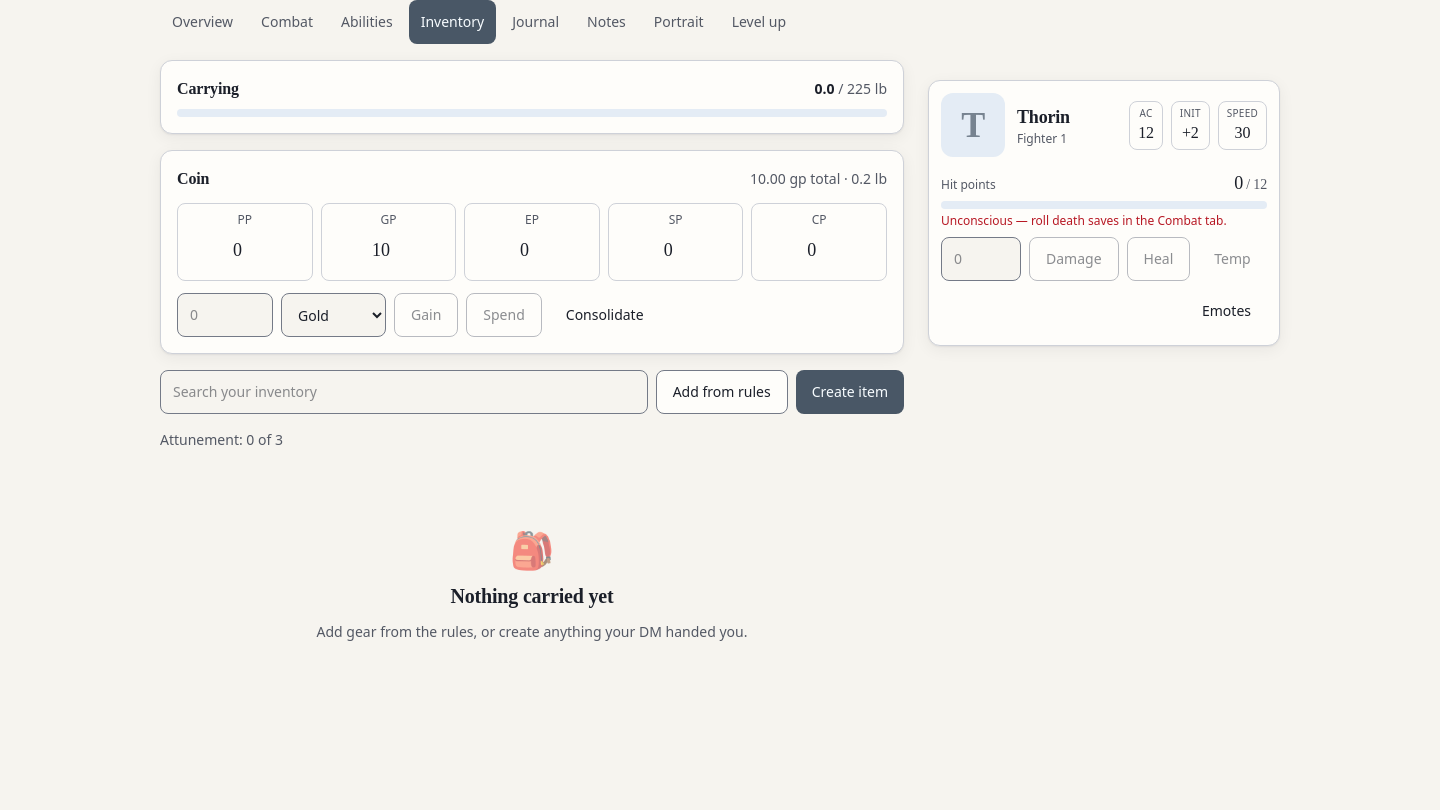
Test: adding items › finds real SRD equipment and snapshots its stats
The width and height of the screenshot is (1440, 810).
Click the button "Add from rules" at coordinates (722, 392), box 656,370 -> 788,414
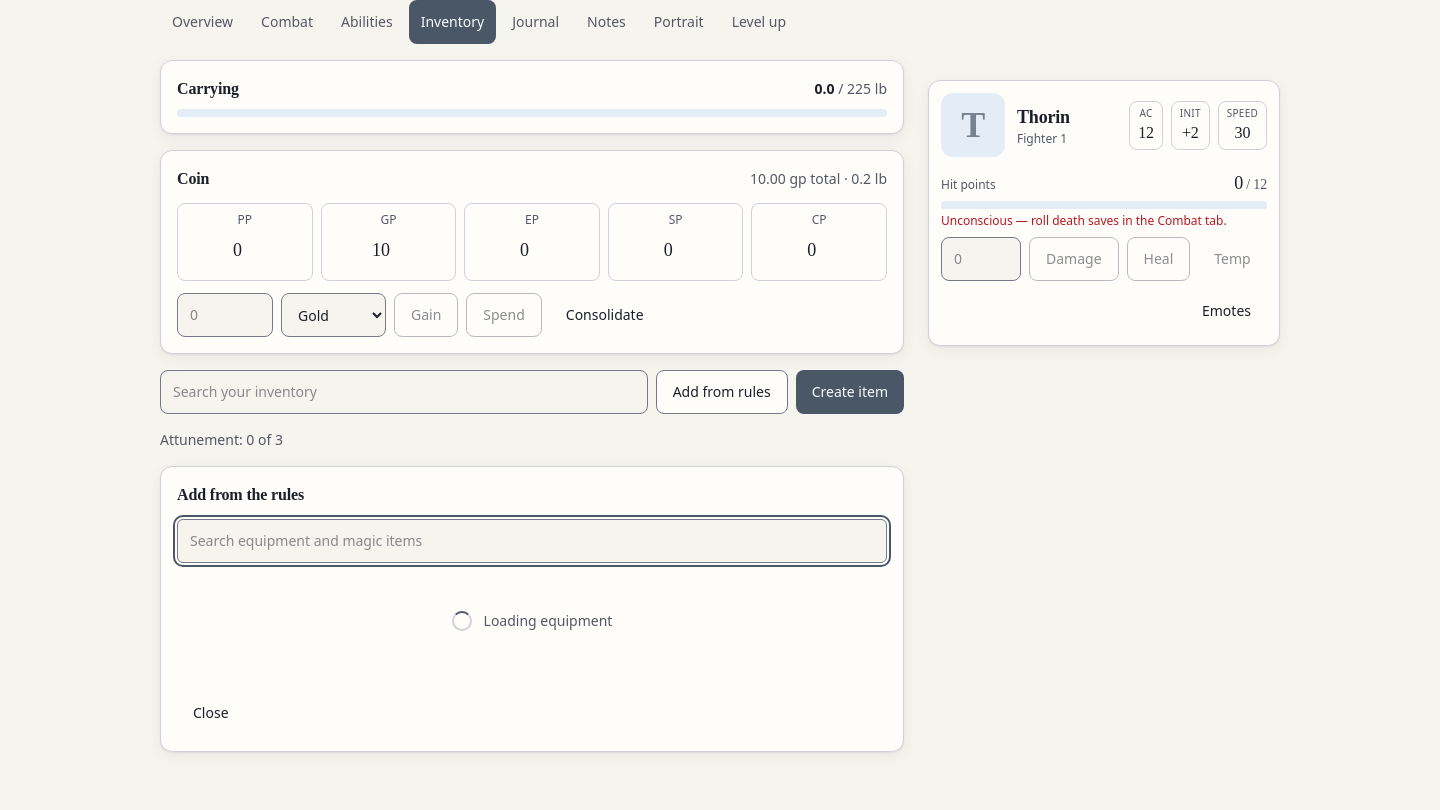
Type "breastplate" into the field labelled "Search equipment and magic items" at coordinates (532, 541), box 177,519 -> 887,563
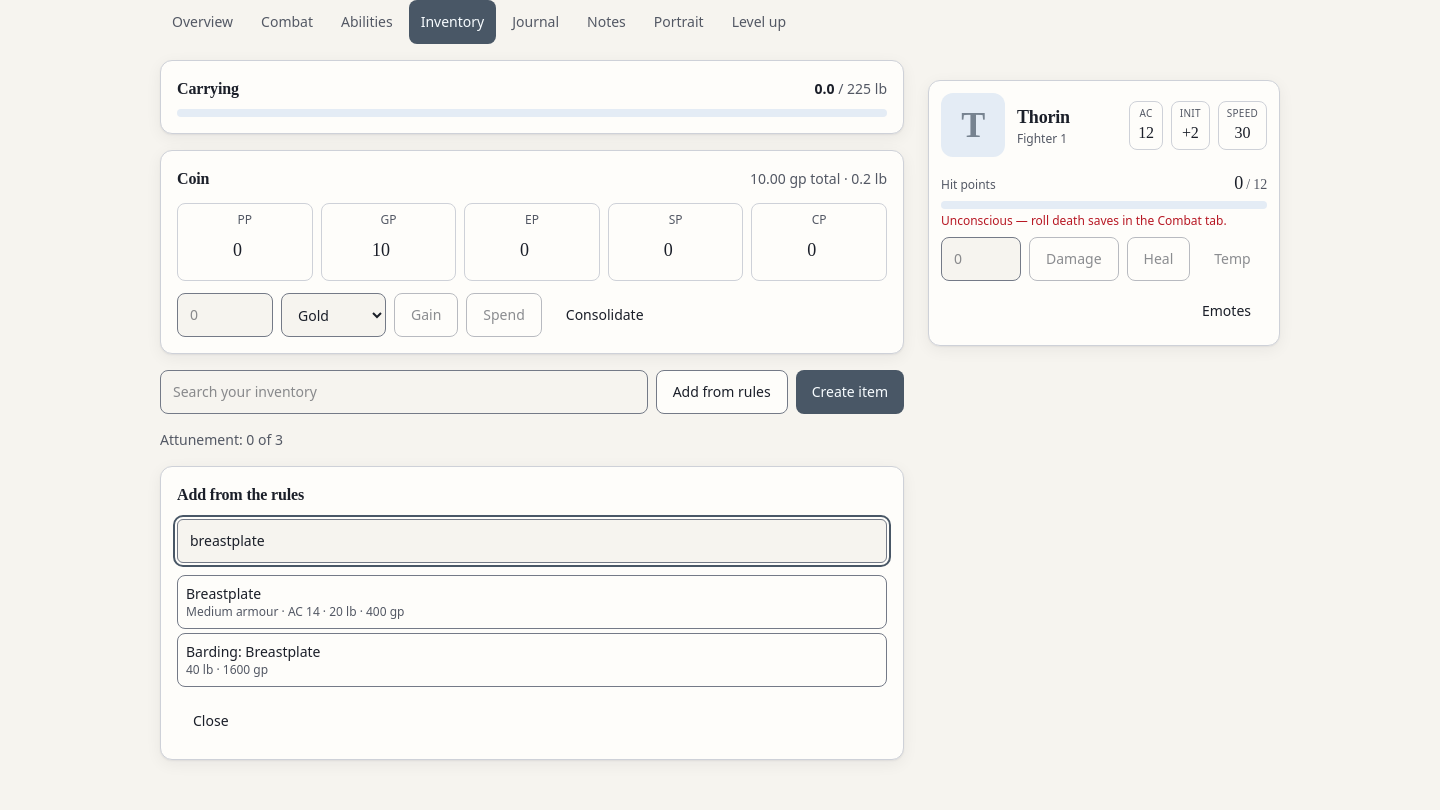
Click the text "Breastplate" at coordinates (224, 594), box 186,584 -> 261,603
(page scrolled)
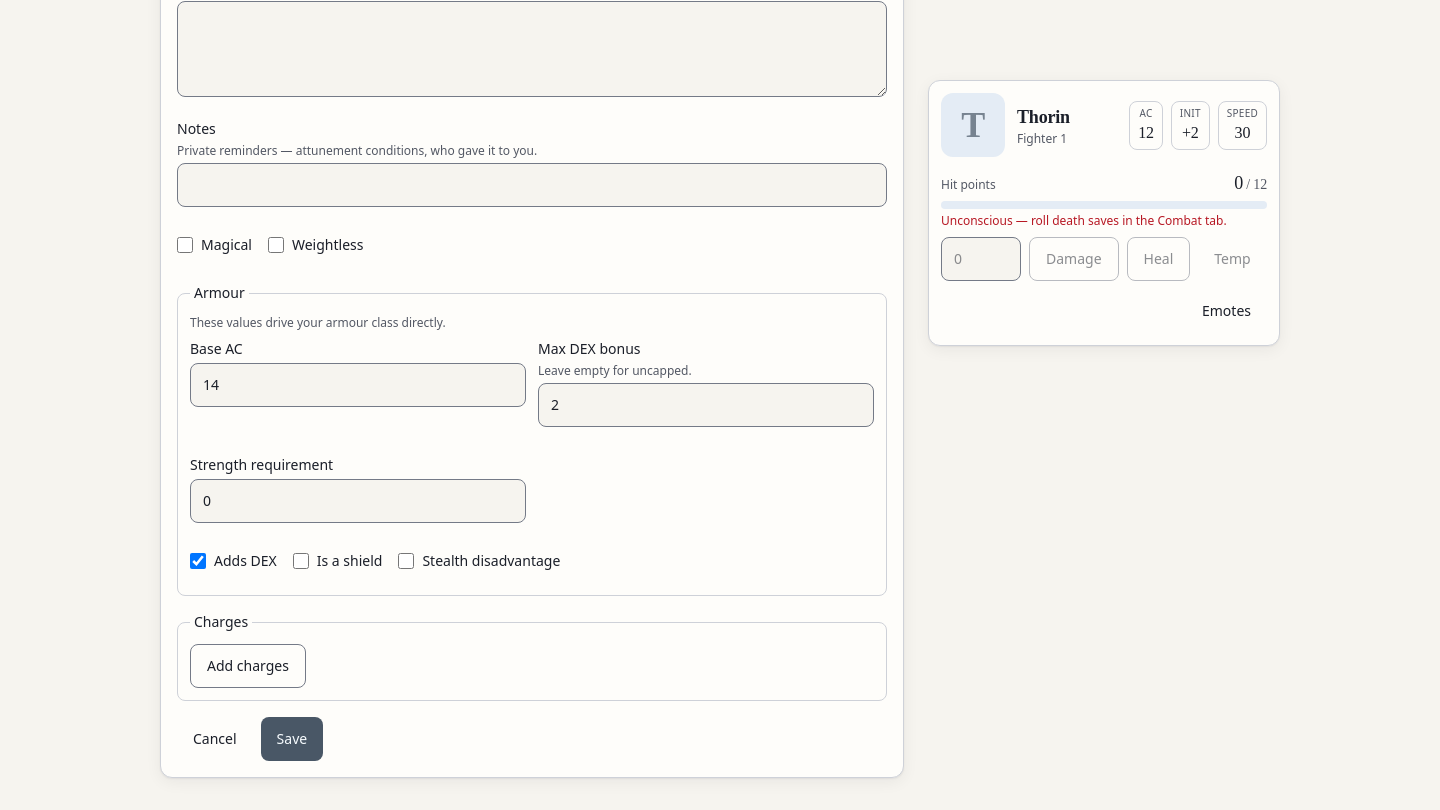
Check: the number field labelled "Base AC" holds "14", box 190,363 -> 526,407
Check: the number field labelled "Max DEX bonus" holds "2", box 538,383 -> 874,427
